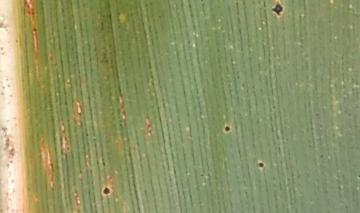tarspot: (268, 1, 288, 17), (100, 185, 116, 196), (223, 123, 233, 135), (257, 161, 267, 170)
